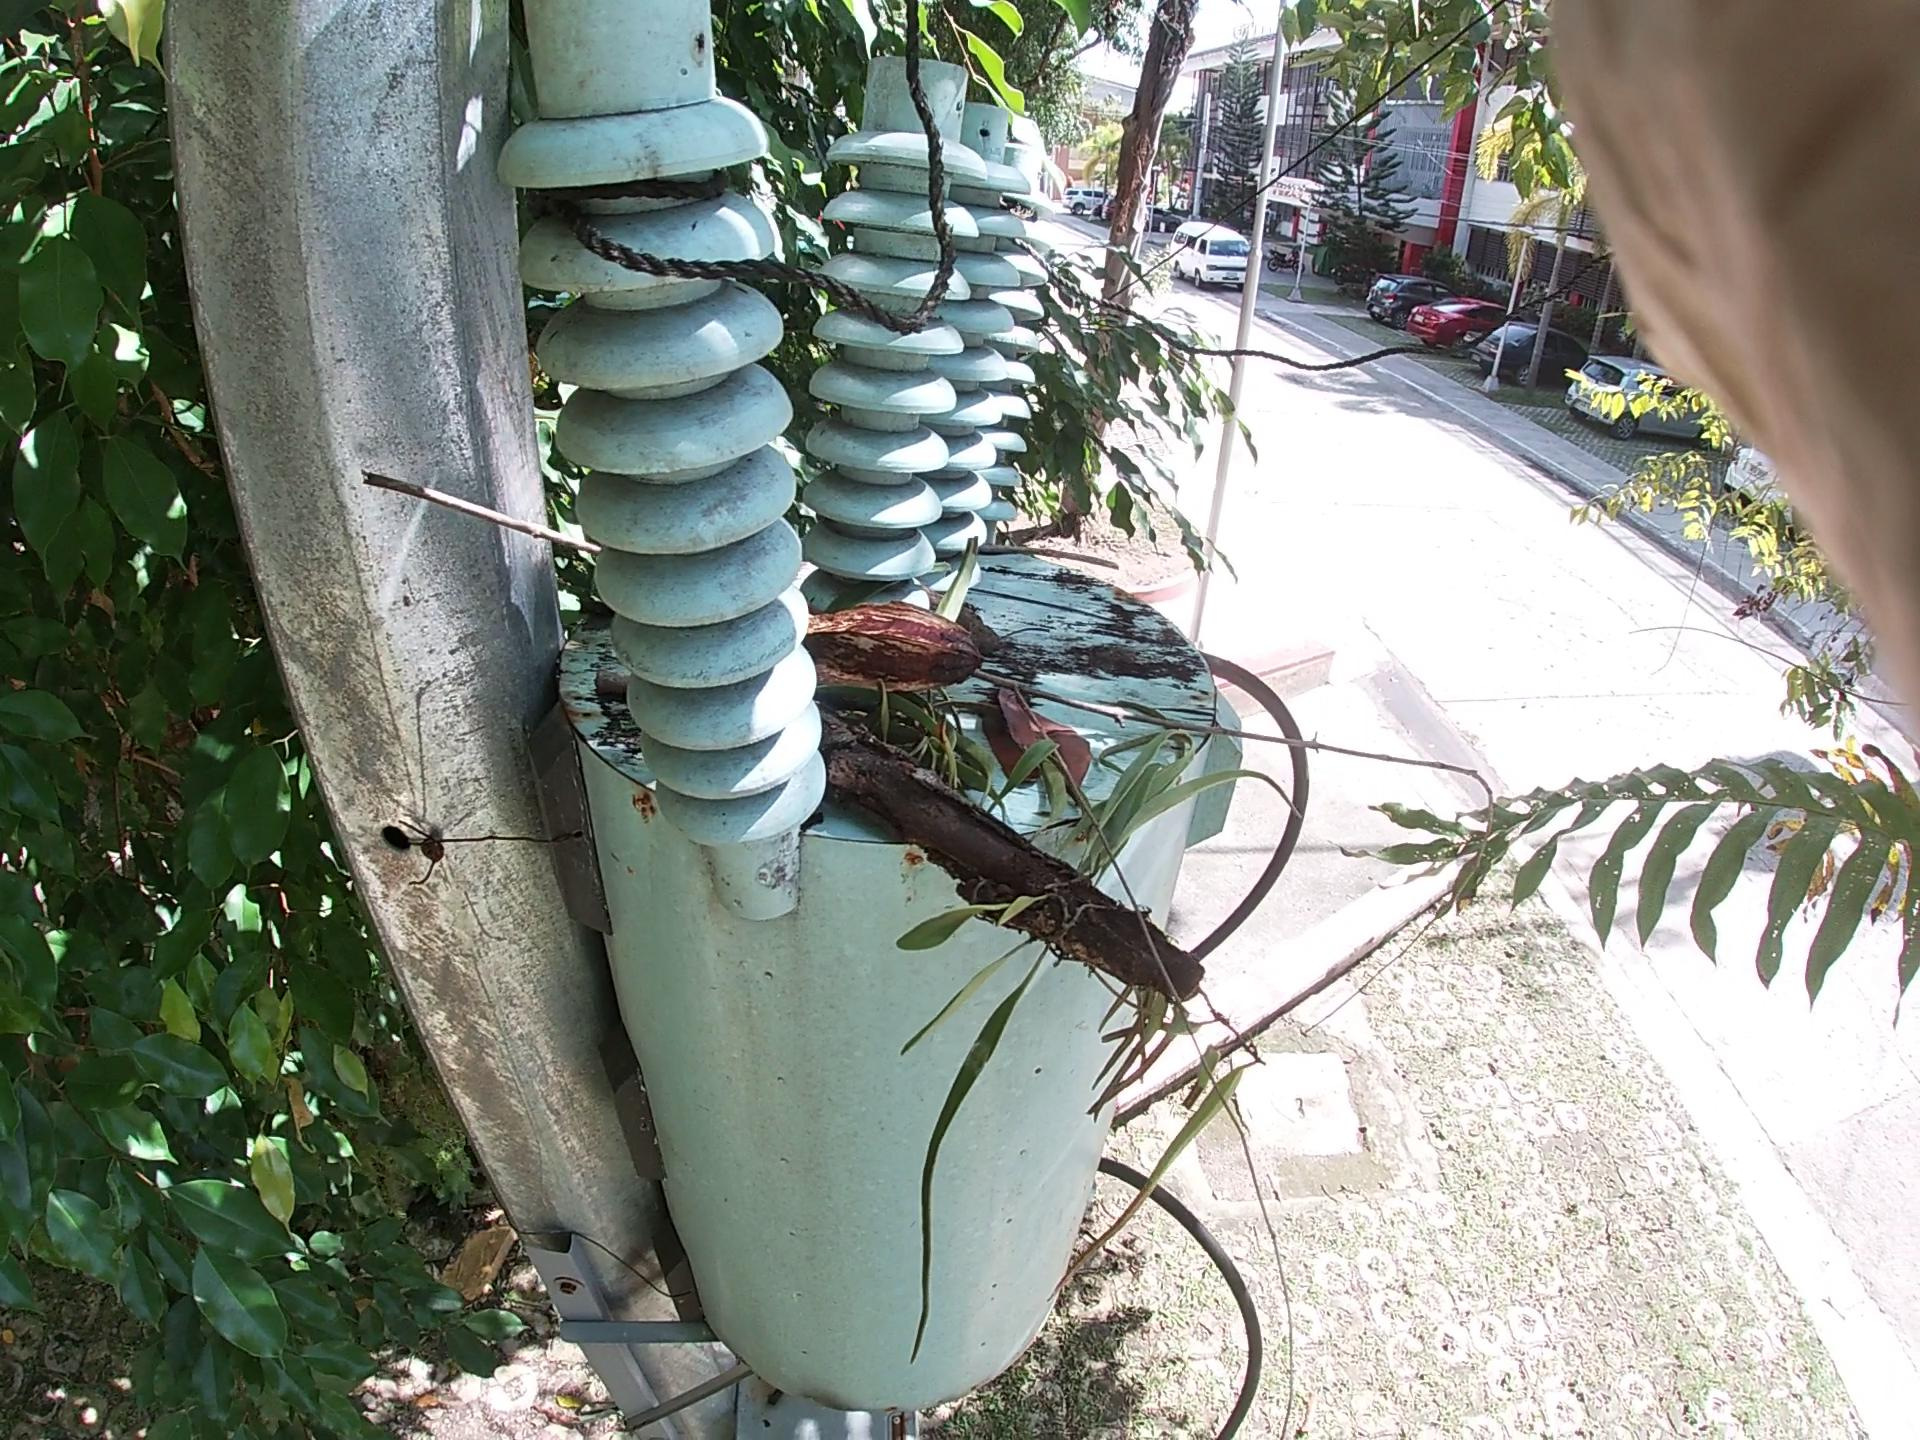branch with leaves: (721, 594, 1332, 1071)
mahogany fruit: (711, 579, 986, 709), (877, 537, 1104, 691)
tree branch: (299, 437, 1587, 864), (912, 483, 1147, 625)
